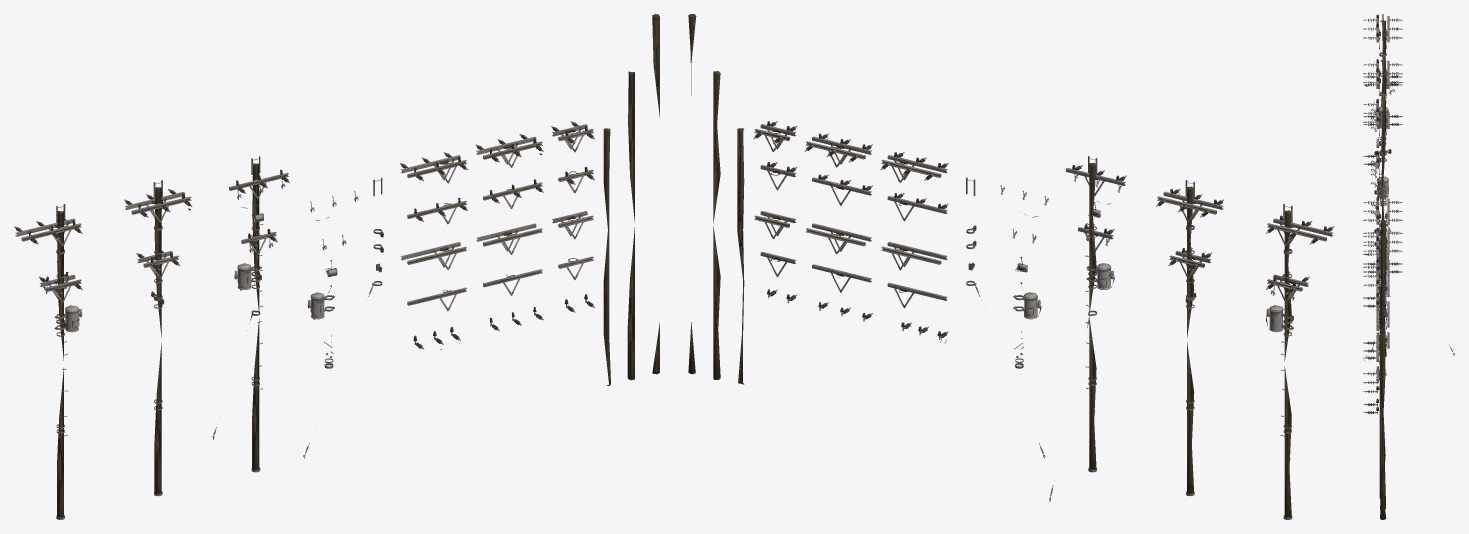
Rendered from modular_electricity_poles.glb.
3 views of the same model, side by side, from view 1: azimuth 30°, elevation 25°; view 2: azimuth 150°, elevation 25°; view 3: azimuth 270°, elevation 25° (orthographic). The views are drawn at different scales.
Visible parts, largest first — view 1: pole, preset_01_pole, preset_02_pole, preset_03_pole, pole_small, connection_large_01, connection_large_offset_01, preset_02_connection_large_01, preset_03_connection_large_offset_01, pole_large, support_large_offset_01, support_large_01; view 2: pole, preset_01_pole, preset_03_pole, preset_02_pole, pole_small, connection_large_01, connection_large_offset_01, preset_02_connection_large_01, preset_03_connection_large_offset_01, support_large_offset_01, support_large_01; view 3: pole_small, pole_large, pole, preset_03_connection_large_offset_01, preset_02_connection_large_01, preset_01_pole, connection_large_01, connection_large_offset_01, connection_small_01, preset_02_pole, preset_01_transformer_01, preset_02_connection_small_01 (+8 smaller).
Boxes of the visible parts, <box> form: pole: <box>627,71,634,380</box>; preset_01_pole: <box>252,163,259,469</box>; preset_02_pole: <box>154,187,161,493</box>; preset_03_pole: <box>57,211,63,517</box>; pole_small: <box>603,128,610,385</box>; connection_large_01: <box>475,134,543,167</box>; connection_large_offset_01: <box>400,152,467,183</box>; preset_02_connection_large_01: <box>124,189,192,222</box>; preset_03_connection_large_offset_01: <box>14,218,82,246</box>; pole_large: <box>652,14,659,374</box>; support_large_offset_01: <box>400,242,466,269</box>; support_large_01: <box>476,223,542,254</box>; pole: <box>713,71,720,379</box>; preset_01_pole: <box>1089,162,1096,469</box>; preset_03_pole: <box>1284,210,1291,517</box>; preset_02_pole: <box>1187,186,1194,493</box>; pole_small: <box>737,128,744,384</box>; connection_large_01: <box>804,133,872,167</box>; connection_large_offset_01: <box>880,152,948,182</box>; preset_02_connection_large_01: <box>1156,188,1224,222</box>; preset_03_connection_large_offset_01: <box>1266,215,1334,246</box>; support_large_offset_01: <box>881,241,947,270</box>; support_large_01: <box>806,223,871,254</box>; pole_small: <box>1379,286,1385,498</box>; pole_large: <box>1380,219,1386,519</box>; pole: <box>1380,267,1385,509</box>; preset_03_connection_large_offset_01: <box>1363,14,1402,49</box>; preset_02_connection_large_01: <box>1363,59,1402,88</box>; preset_01_pole: <box>1380,99,1386,354</box>; connection_large_01: <box>1363,227,1402,257</box>; connection_large_offset_01: <box>1363,197,1402,231</box>; connection_small_01: <box>1363,258,1402,282</box>; preset_02_pole: <box>1380,60,1386,311</box>; preset_01_transformer_01: <box>1376,176,1388,199</box>; preset_02_connection_small_01: <box>1363,112,1402,135</box>.
Bounding box in the file's own units: 13.11 × 7 × 1.96.
2 materials, 2 textured.
